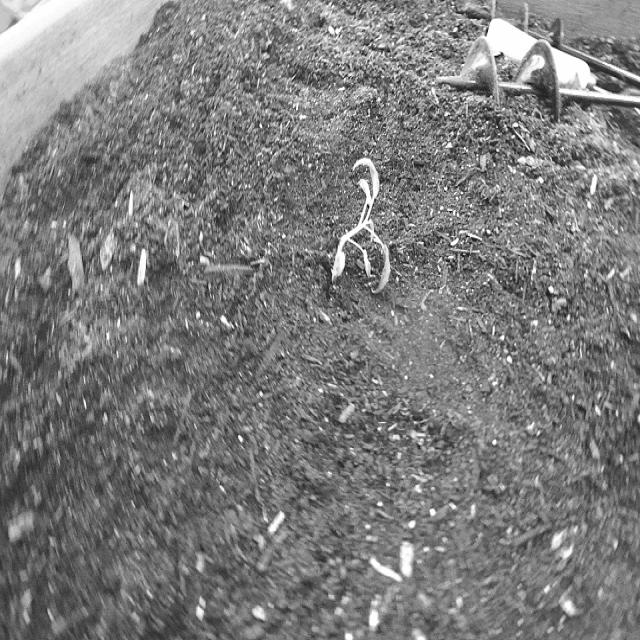Unhealthy: (331, 150, 394, 298)
